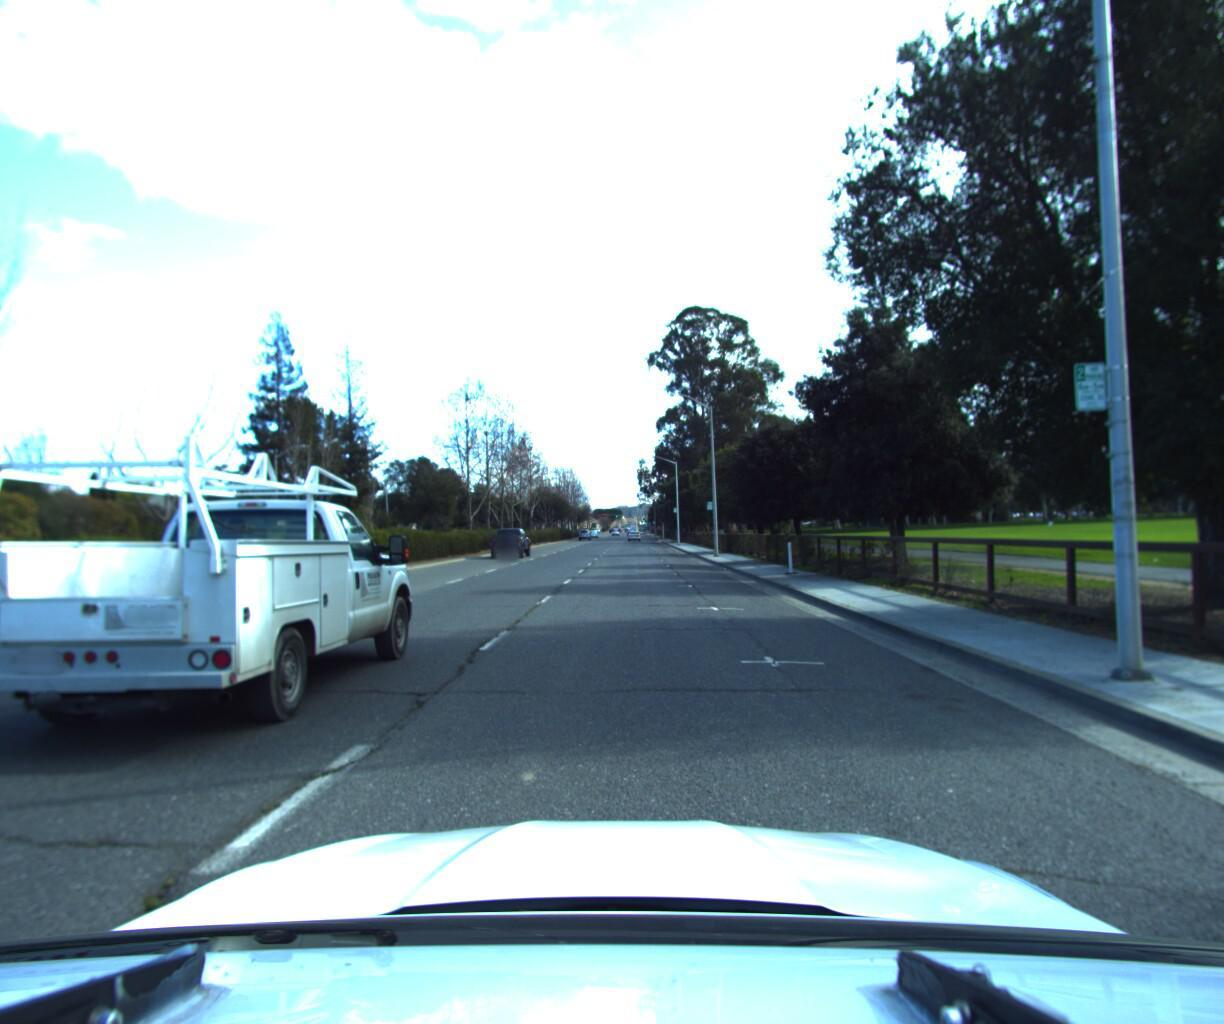car: (0, 420, 435, 768), (487, 524, 532, 556)
